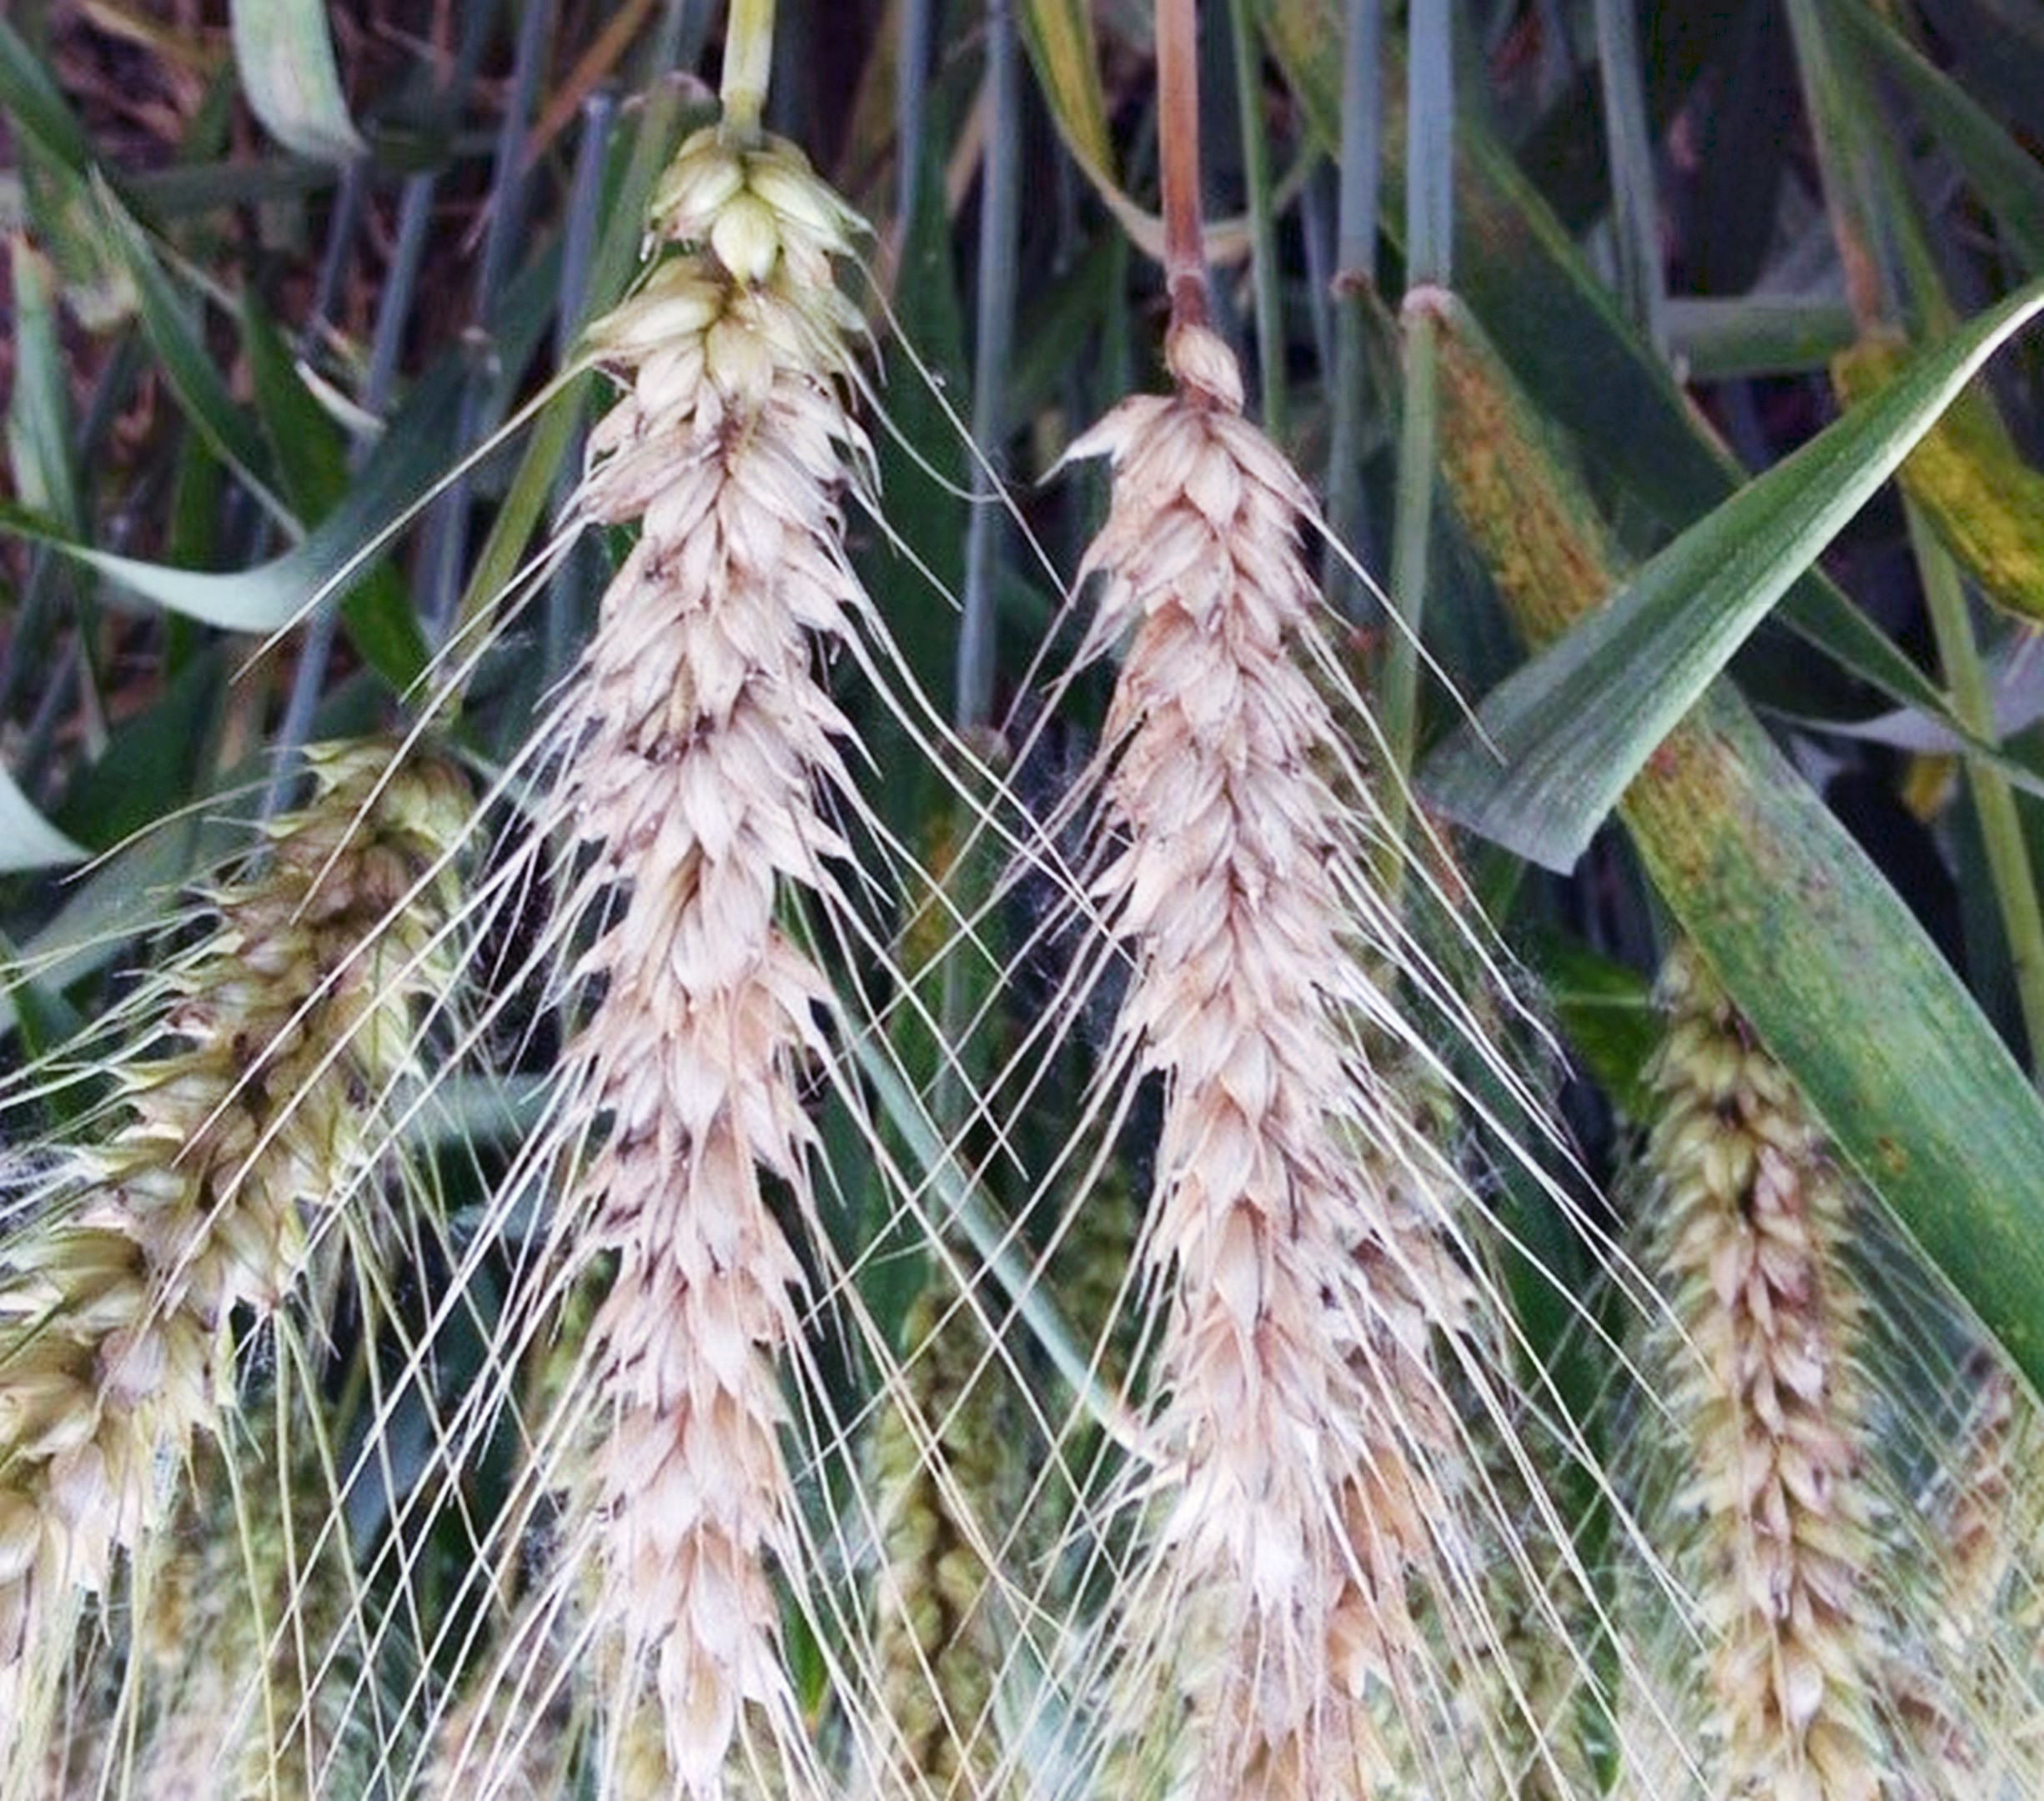Wheat scab: (528, 103, 919, 1730), (1057, 302, 1425, 1627), (40, 688, 452, 1570), (1630, 935, 1898, 1799)
